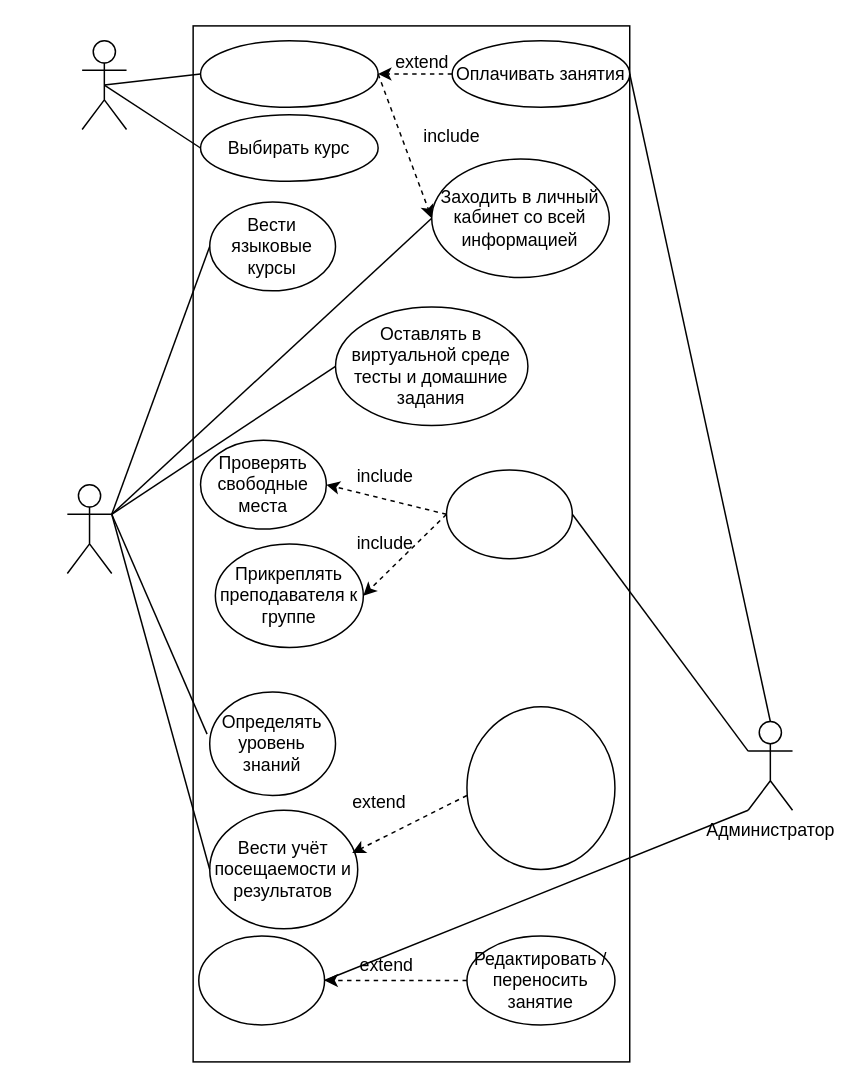
The diagram is 860 pixels wide and 1088 high, and some of its shapes have lost their labels. Each missing label, with the centre of its shape:
Преподователь: point 89,528
Регистрироваться в системе: point 288,73
Слушатель: point 104,84
Составлять расписание: point 261,980
Уведомлять о пропусках и выдавать рекомендации относительно успеваемости: point 540,787
Формировать группы: point 508,513
